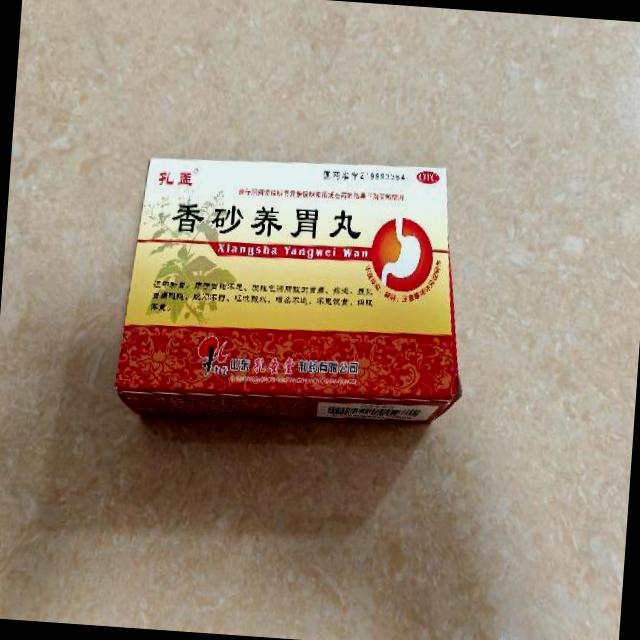box: (112, 143, 474, 437)
